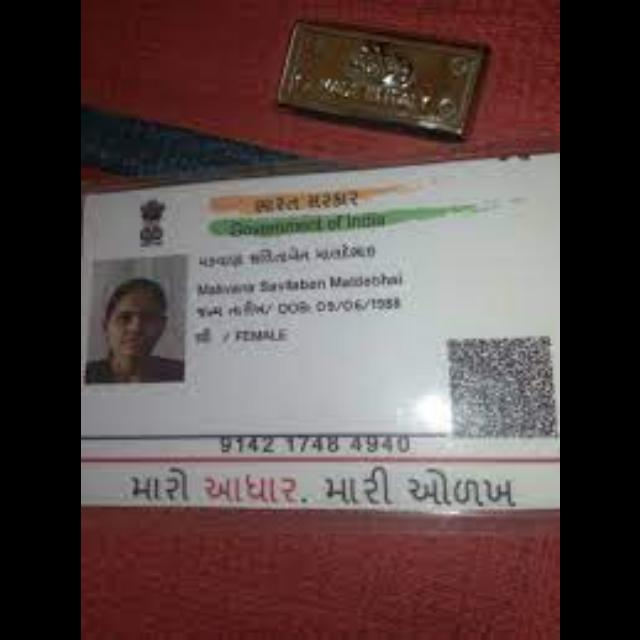aadhaar: (80, 148, 560, 522)
